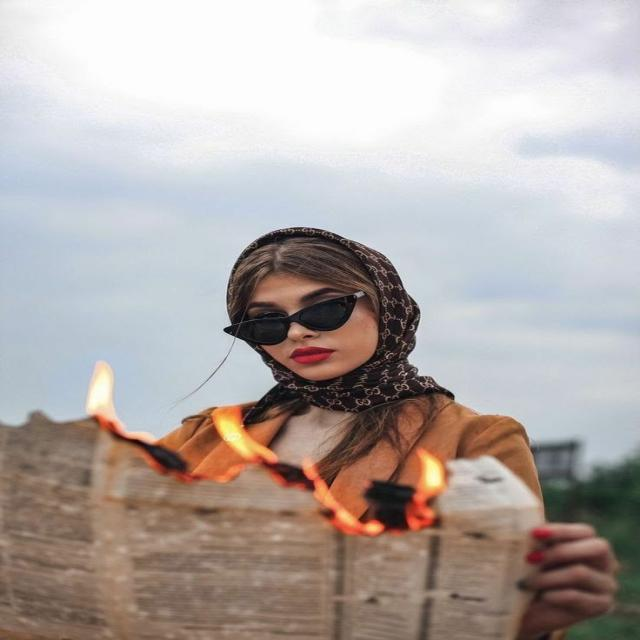Fire: (85, 350, 472, 530)
